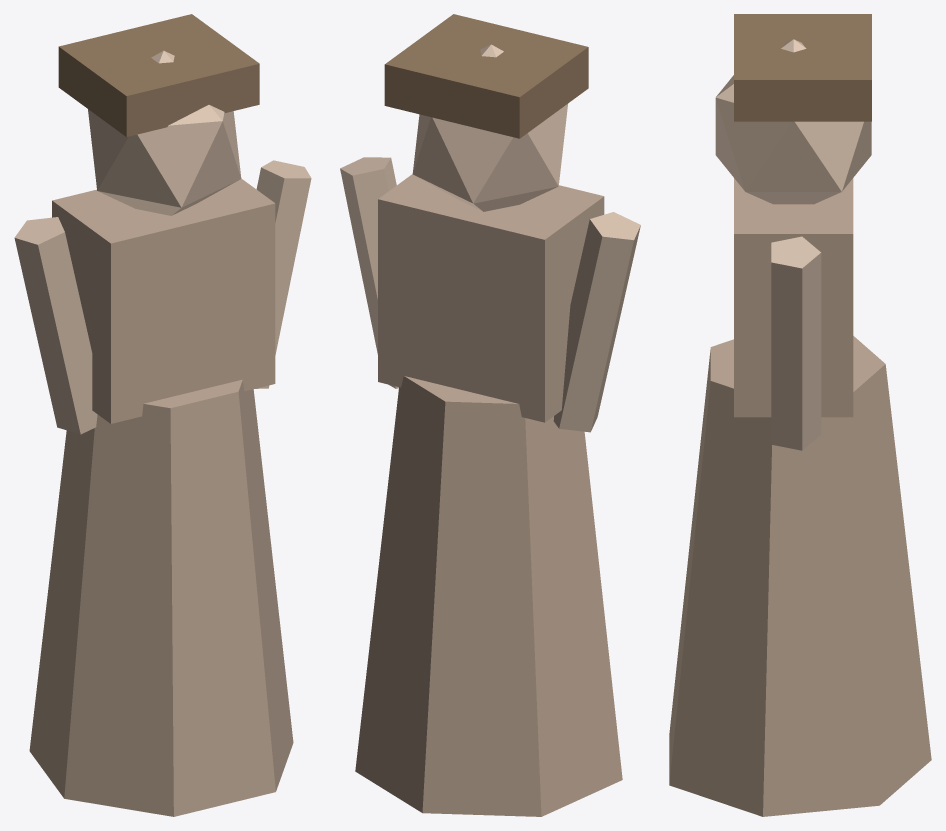
File: villager.glb
3 renders of one model, left to right at view 1: azimuth 30°, elevation 25°; view 2: azimuth 150°, elevation 25°; view 3: azimuth 270°, elevation 25°, orthographic.
Parts seen in each view (by area): view 1: villager; view 2: villager; view 3: villager.
Part boxes in pixels (<box>): villager: <box>14,14,311,816</box>; villager: <box>340,14,640,816</box>; villager: <box>669,14,931,816</box>.
Size of the model in its own units: 0.7405 by 1.73 by 0.5703.
